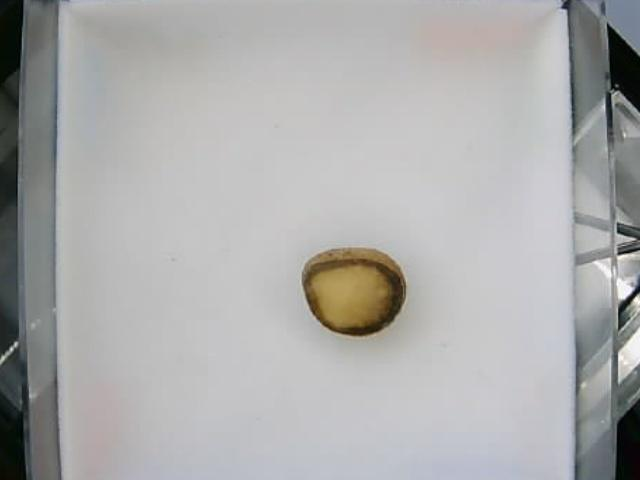Potato: (300, 244, 405, 339)
